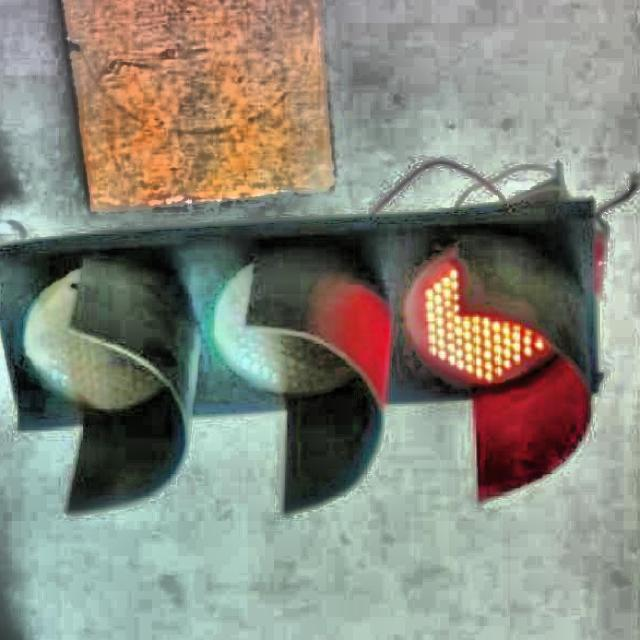red: (14, 219, 602, 450)
